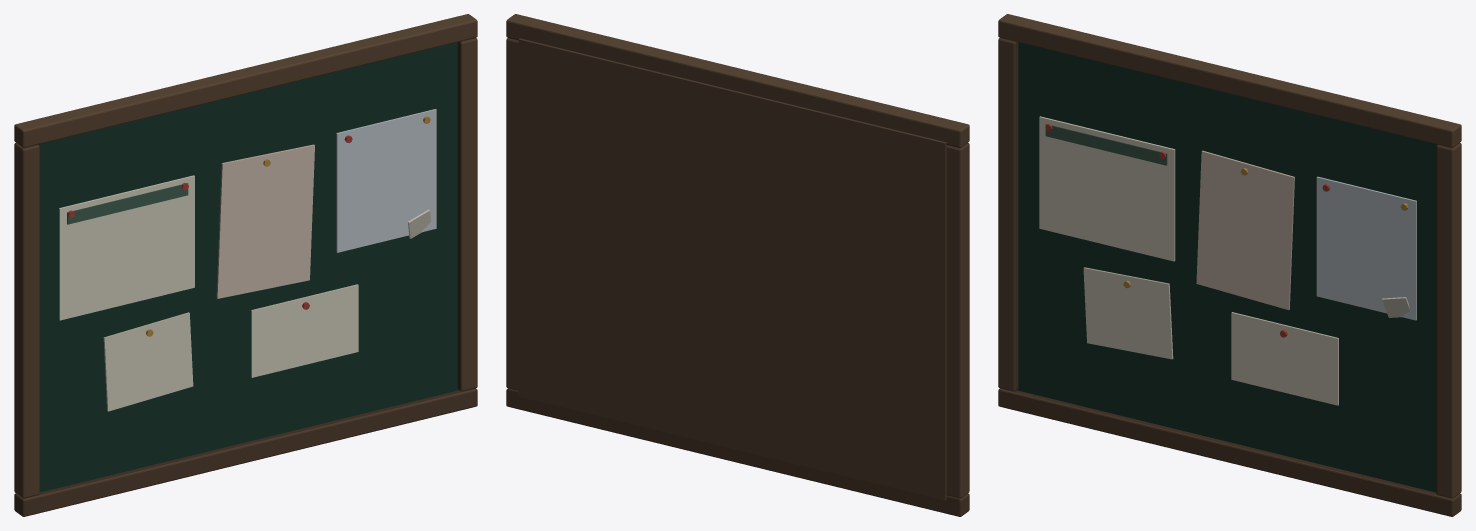
The model's file is prop_school_bulletin.glb.
3 renders of one model, left to right at view 1: azimuth 30°, elevation 25°; view 2: azimuth 150°, elevation 25°; view 3: azimuth 330°, elevation 25°, orthographic.
Visible parts, largest first — view 1: prop_school_bulletin; view 2: prop_school_bulletin; view 3: prop_school_bulletin.
Part boxes in pixels (x1,y1,x2,y2): prop_school_bulletin: [14, 14, 477, 516]; prop_school_bulletin: [506, 14, 969, 516]; prop_school_bulletin: [998, 14, 1461, 516].
Size of the model in its own units: 1.28 by 1.04 by 0.0572.
